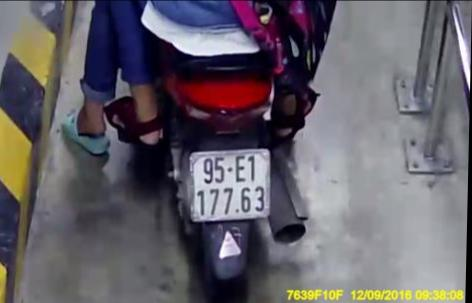LP: (188, 146, 275, 224)
